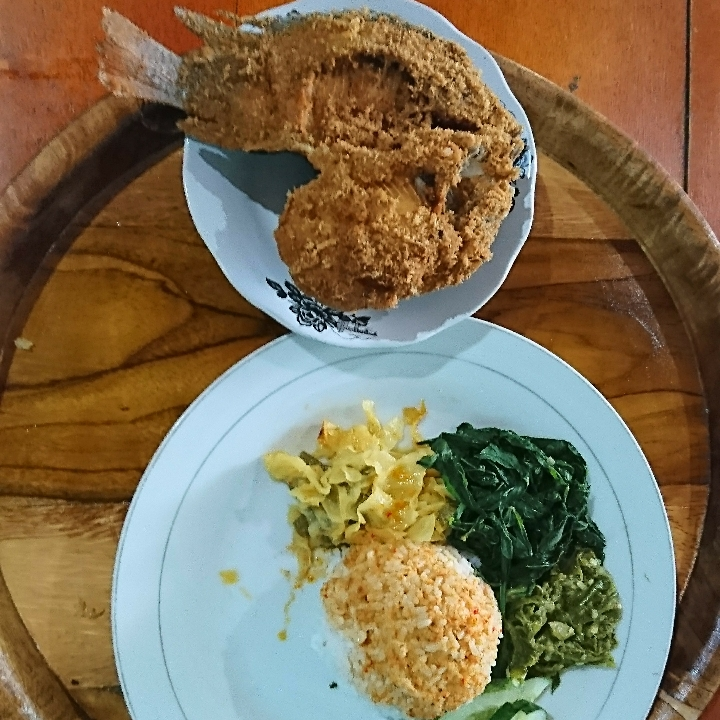buah_sayur_lainnya: (459, 443, 573, 551), (319, 436, 407, 523), (518, 585, 595, 663)
daging: (317, 97, 512, 215)
makanan_berpati: (360, 569, 463, 686)
